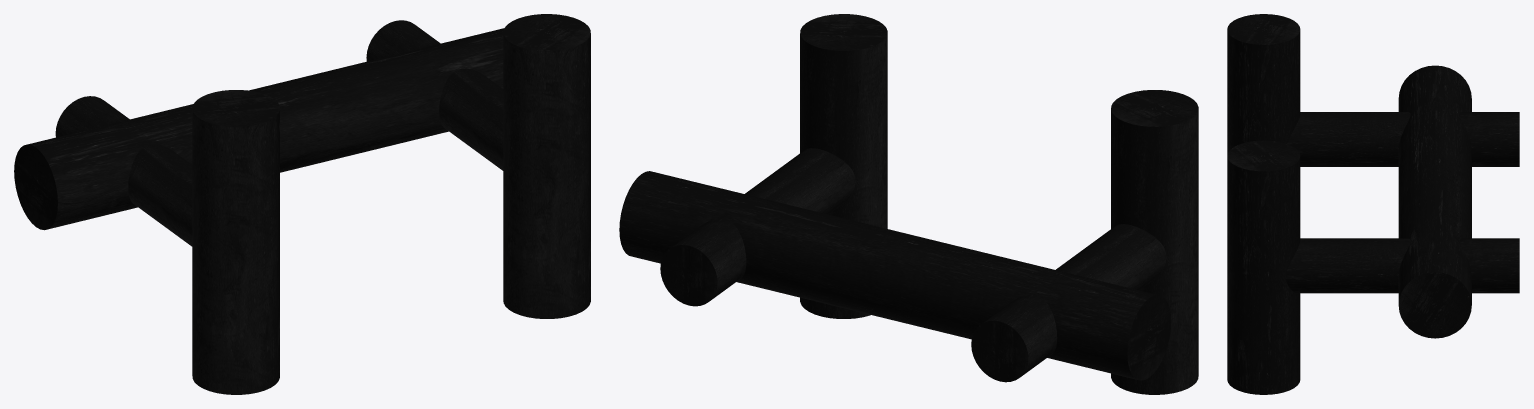
The model's file is KIM1_GLB.glb.
The picture shows the model from 3 angles, left to right: view 1: azimuth 30°, elevation 25°; view 2: azimuth 150°, elevation 25°; view 3: azimuth 270°, elevation 25°; orthographic projection. The views are drawn at different scales.
Visible parts, largest first — view 1: Kim_1; view 2: Kim_1; view 3: Kim_1.
Part boxes in pixels (x1=…): Kim_1: x1=14, y1=14, x2=590, y2=394; Kim_1: x1=619, y1=14, x2=1198, y2=394; Kim_1: x1=1227, y1=14, x2=1519, y2=394.
Bounding box in the file's own units: 2.27 × 1.14 × 1.36.
1 material, 1 textured.
